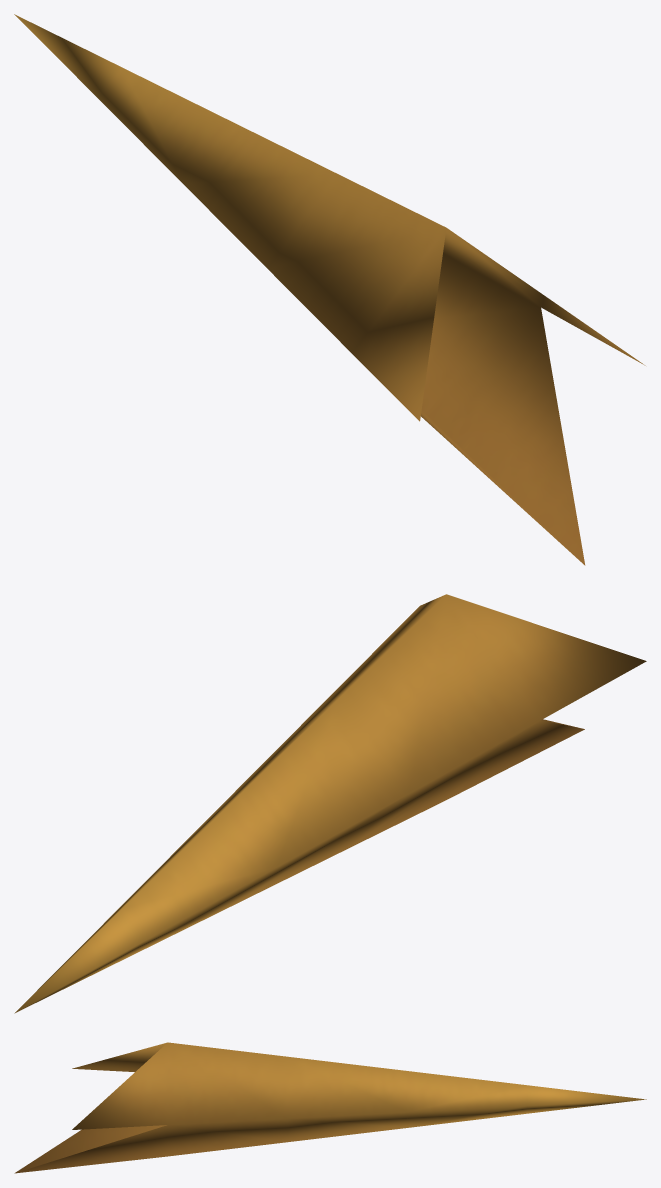
File: jakecola.obj
3 renders of one model, top to bottom at view 1: azimuth 30°, elevation 25°; view 2: azimuth 150°, elevation 25°; view 3: azimuth 270°, elevation 25°, orthographic. The views are drawn at different scales.
Visible parts, largest first — view 1: JakeCola; view 2: JakeCola; view 3: JakeCola.
Part boxes in pixels (left/top/right/bottom): JakeCola: left=14, top=14, right=645, bottom=565; JakeCola: left=14, top=594, right=646, bottom=1013; JakeCola: left=14, top=1042, right=646, bottom=1173.
Size of the model in its own units: 0.1879 by 0.1872 by 0.819.
